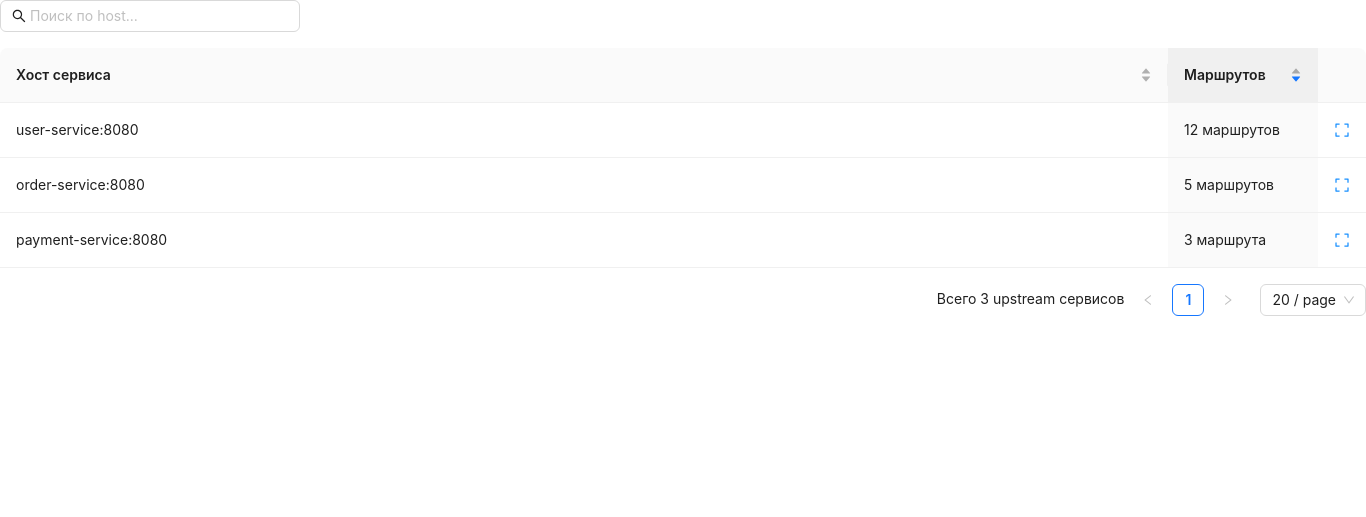
Test: UpstreamsTable › expandable rows (Story 11.1) › корректно обрабатывает загрузку маршрутов
The image size is (1366, 517).
Expected: the text "user-service:8080" is shown, x1=0 y1=103 x2=1168 y2=158
Step 1. Click the picture with test id "expand-icon" in the row of "user-service:8080" → [1342, 130], box x1=1335 y1=123 x2=1349 y2=137
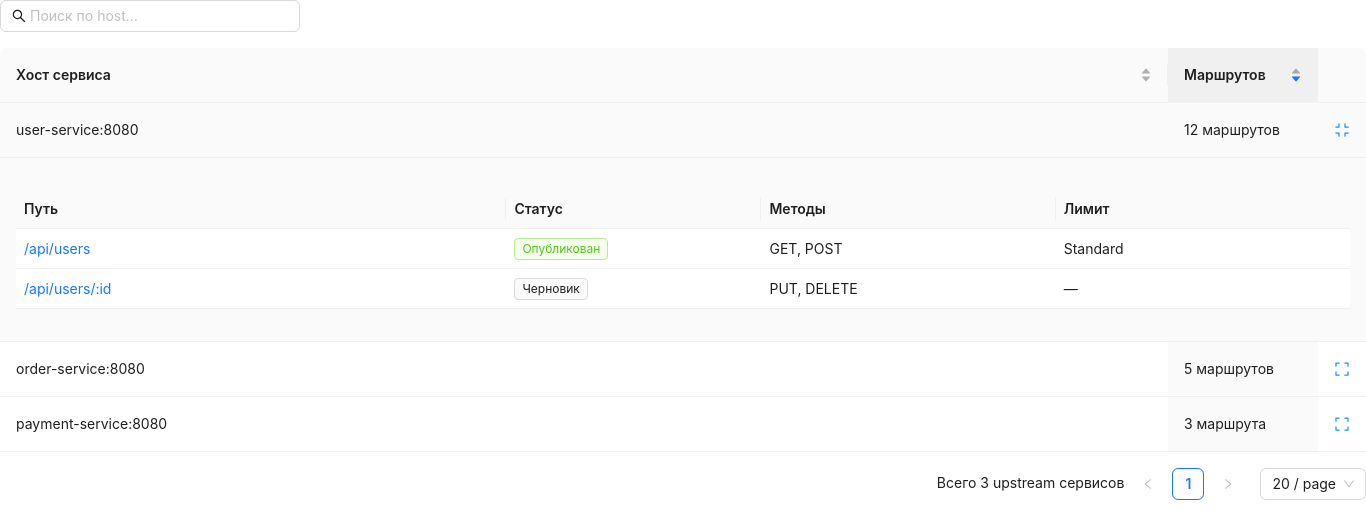
Now the link "/api/users" is shown, box x1=24 y1=240 x2=90 y2=256
